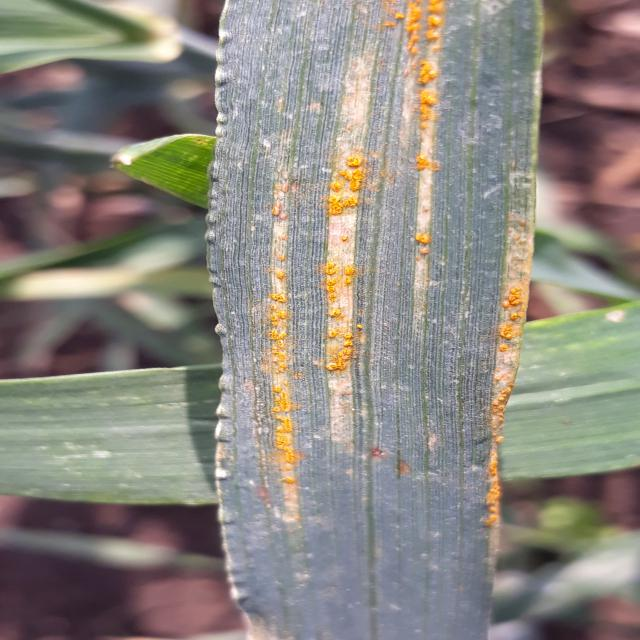yellow_rust: (187, 0, 568, 577)
